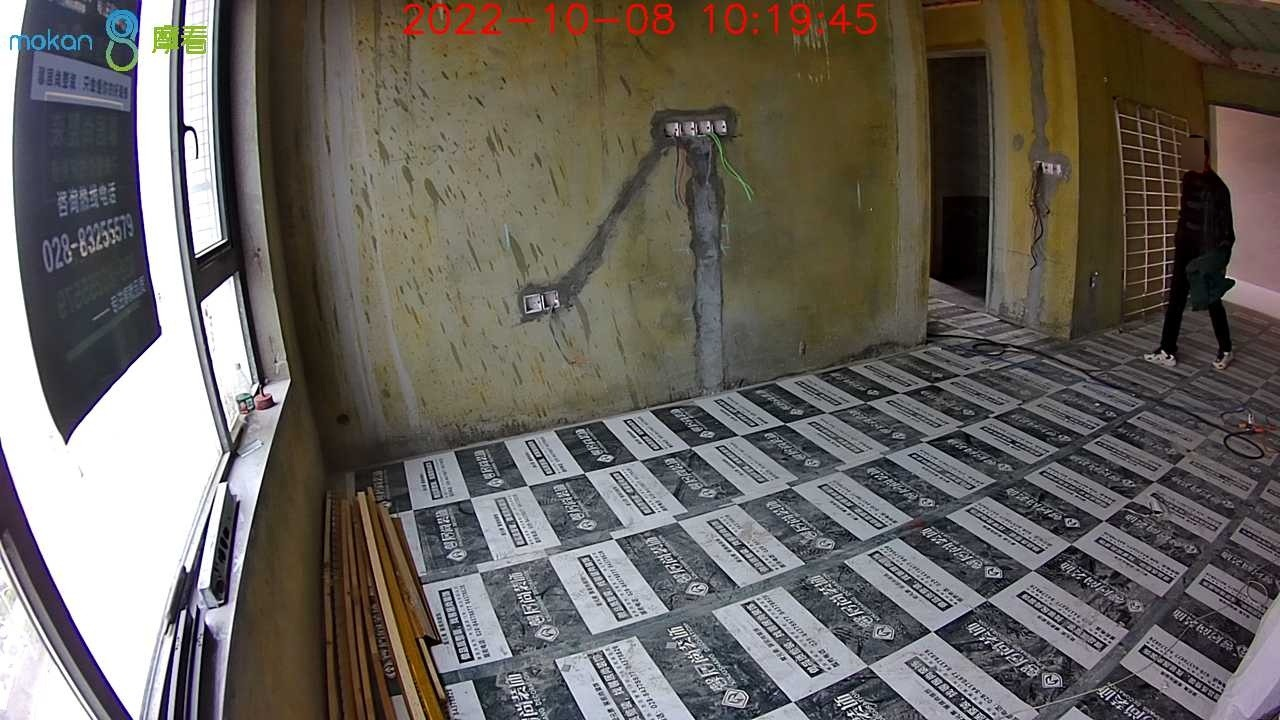people: (1142, 136, 1236, 369)
window: (1, 1, 277, 720)
